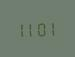one: (18, 20, 26, 37), (27, 20, 35, 37), (45, 19, 53, 36)
zero: (36, 20, 44, 36)
